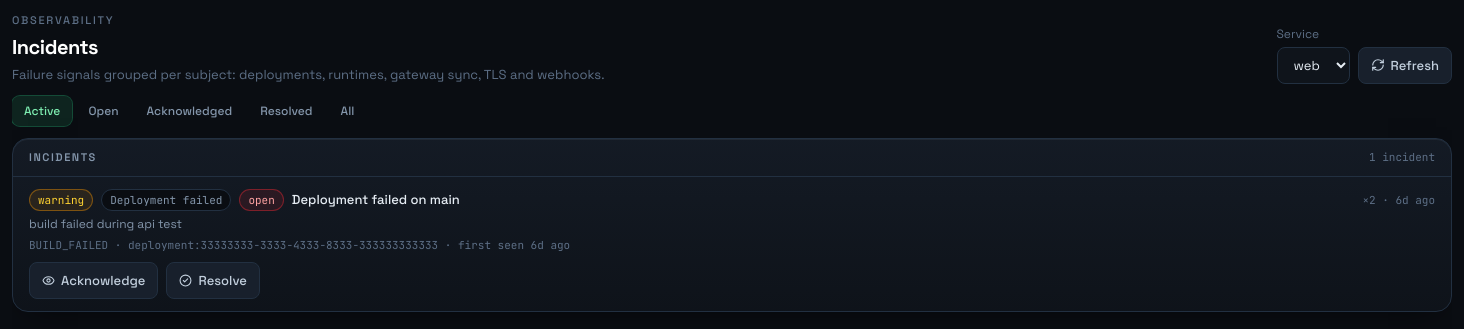
IncidentsView › resolving an incident removes its action buttons
Click the button with aria-label "Resolve incident" at (213, 280), box top-left (166, 262), bottom-right (260, 299)
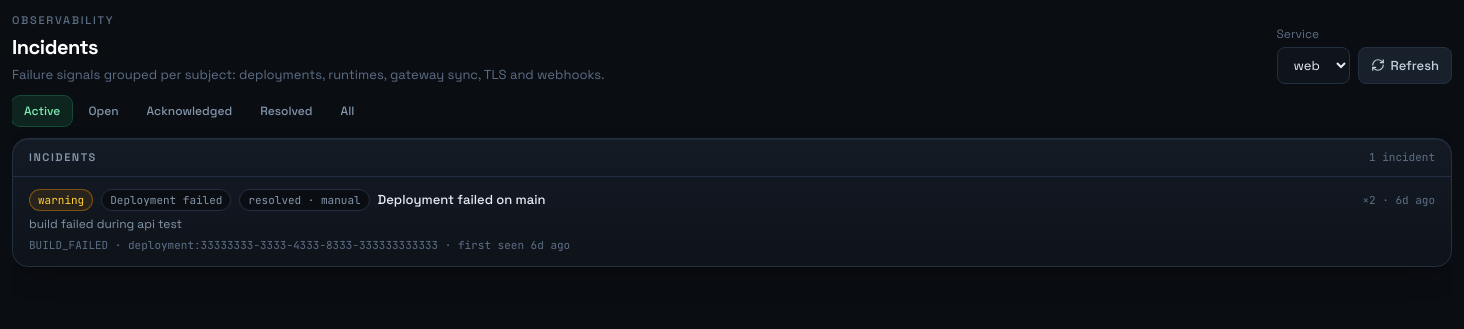
Now the text "resolved · manual" is shown, box top-left (239, 188), bottom-right (370, 211)
